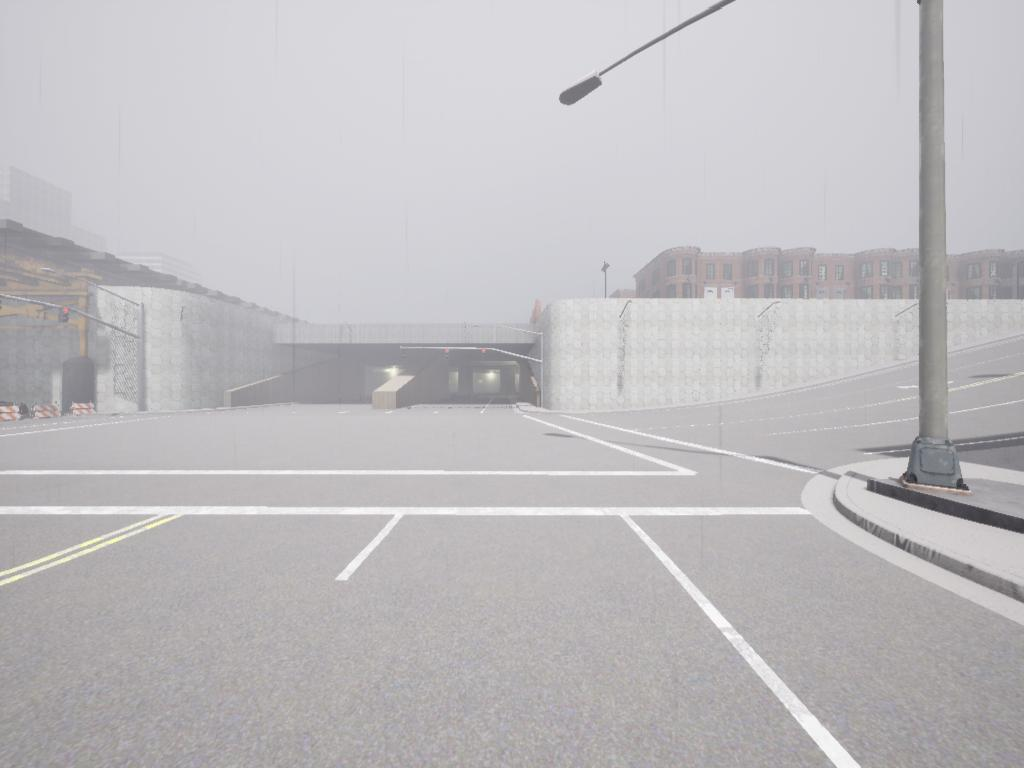traffic_light: (60, 306, 70, 326), (401, 348, 407, 359), (482, 351, 488, 362), (446, 349, 450, 360)
